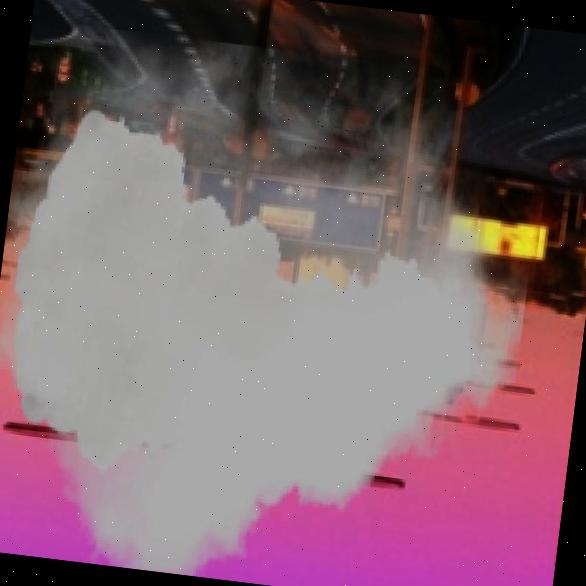smoke: (0, 19, 552, 586)
